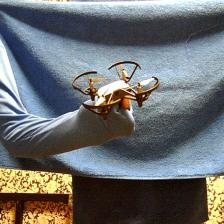drone: (72, 58, 162, 120)
